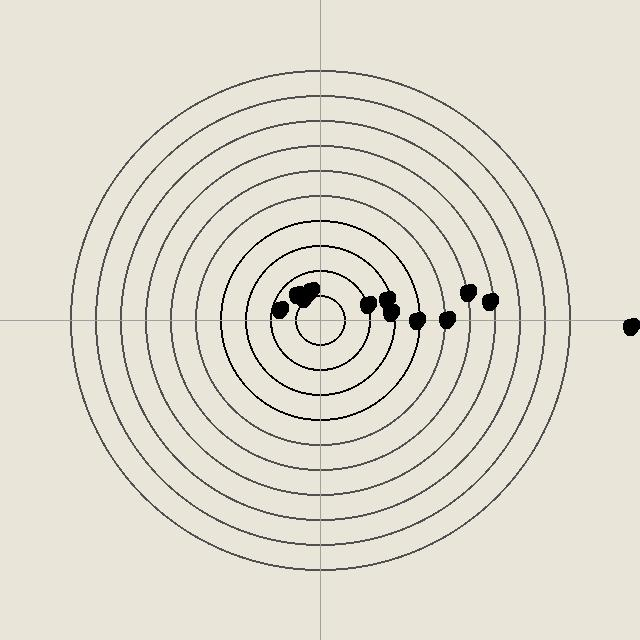horizontal_scatter: (406, 310, 426, 330), (457, 282, 477, 302), (300, 280, 320, 300), (293, 288, 313, 308), (269, 299, 289, 319), (286, 284, 306, 304), (376, 289, 396, 309), (380, 302, 400, 322), (436, 309, 456, 329), (479, 291, 499, 311), (620, 316, 640, 336), (357, 294, 377, 314)
